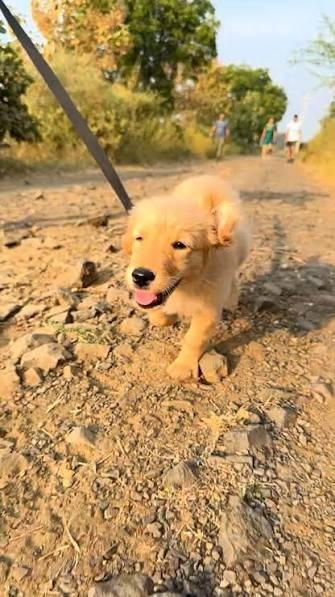non-dog: (283, 113, 306, 165), (210, 112, 232, 161), (259, 118, 279, 159)
puppy-dog: (119, 172, 251, 382)
